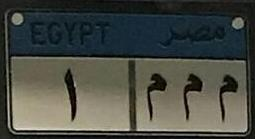1: (58, 68, 84, 124)
meem: (212, 71, 242, 120), (176, 69, 204, 119), (141, 72, 169, 122)
